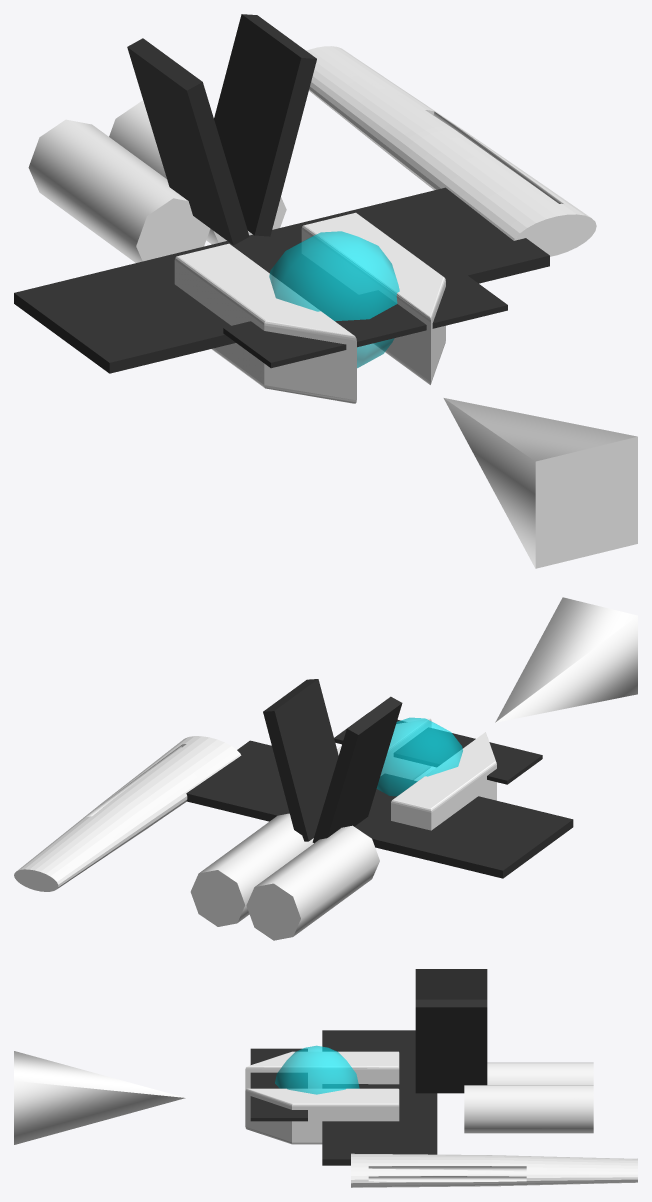
File: fighter_player_260801_580.glb
3 renders of one model, top to bottom at view 1: azimuth 30°, elevation 25°; view 2: azimuth 150°, elevation 25°; view 3: azimuth 270°, elevation 25°, orthographic. The views are drawn at different scales.
Visible parts, largest first — view 1: dummy_wings (×4), dummy_tails (×2), dummy_nose, fuselage_custom_01, dummy_engines (×2), Intake_R, Intake_L, dummy_canopy; view 2: dummy_wings (×3), dummy_engines (×2), dummy_tails (×2), dummy_nose, fuselage_custom_01, Intake_R, dummy_canopy, Intake_L; view 3: dummy_wings (×4), dummy_tails (×2), dummy_engines (×2), fuselage_custom_01, dummy_nose, Intake_L, Intake_R, dummy_canopy.
Part boxes in pixels (x1,y1,x2,y2): dummy_wings (×4): [14, 187, 549, 373]; dummy_tails (×2): [127, 14, 316, 245]; dummy_nose: [443, 398, 637, 568]; fuselage_custom_01: [306, 46, 596, 256]; dummy_engines (×2): [28, 101, 286, 262]; Intake_R: [174, 243, 356, 403]; Intake_L: [301, 212, 445, 384]; dummy_canopy: [269, 231, 399, 367]; dummy_wings (×3): [186, 722, 573, 878]; dummy_engines (×2): [190, 813, 379, 940]; dummy_tails (×2): [263, 679, 402, 843]; dummy_nose: [495, 597, 637, 722]; fuselage_custom_01: [14, 736, 241, 891]; Intake_R: [391, 732, 496, 830]; dummy_canopy: [376, 717, 462, 796]; Intake_L: [337, 718, 431, 779]; dummy_wings (×4): [250, 1030, 437, 1165]; dummy_tails (×2): [415, 969, 487, 1093]; dummy_engines (×2): [464, 1062, 593, 1133]; fuselage_custom_01: [351, 1153, 637, 1187]; dummy_nose: [14, 1051, 185, 1144]; Intake_L: [245, 1088, 399, 1144]; Intake_R: [245, 1051, 399, 1090]; dummy_canopy: [275, 1045, 359, 1094].
Bounding box in the file's own units: 2.47 × 1.11 × 4.35.
